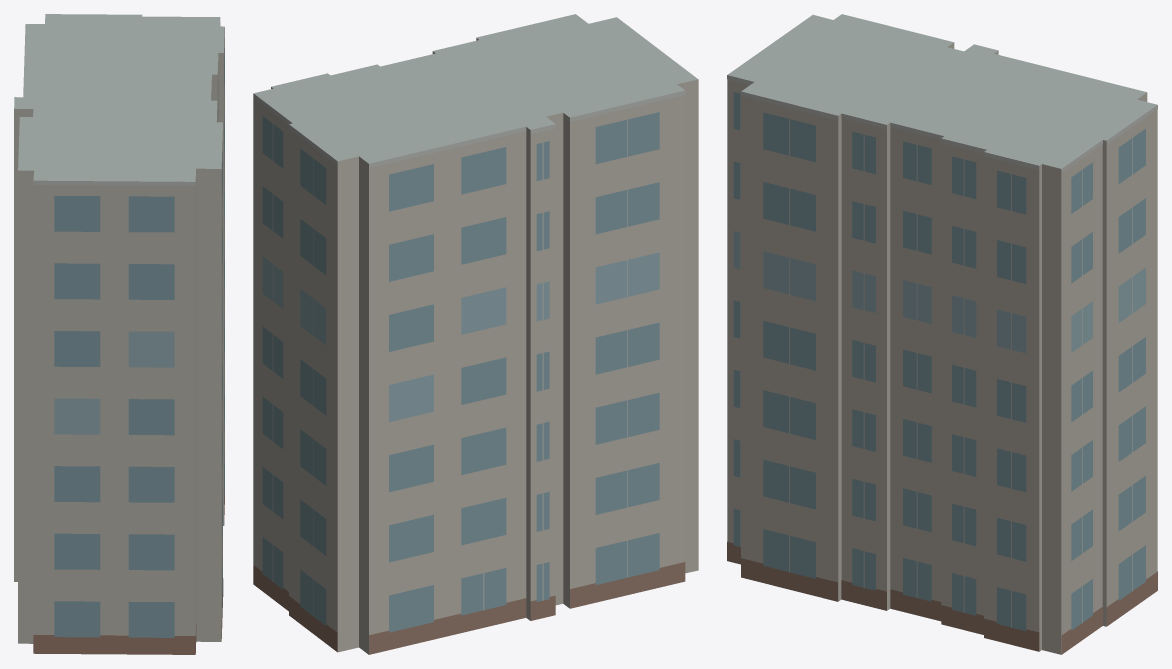
Rendered from survey-upis-32730100.glb.
The picture shows the model from 3 angles, left to right: view 1: azimuth 30°, elevation 25°; view 2: azimuth 150°, elevation 25°; view 3: azimuth 270°, elevation 25°; orthographic projection. The views are drawn at different scales.
Visible parts, largest first — view 1: survey-upis-32730100.tmp; view 2: survey-upis-32730100.tmp; view 3: survey-upis-32730100.tmp.
Boxes of the visible parts, left/top/right/bottom form: survey-upis-32730100.tmp: left=14, top=14, right=224, bottom=654; survey-upis-32730100.tmp: left=253, top=14, right=698, bottom=654; survey-upis-32730100.tmp: left=727, top=14, right=1157, bottom=654.
Size of the model in its own units: 18.33 by 26.8 by 21.53.
